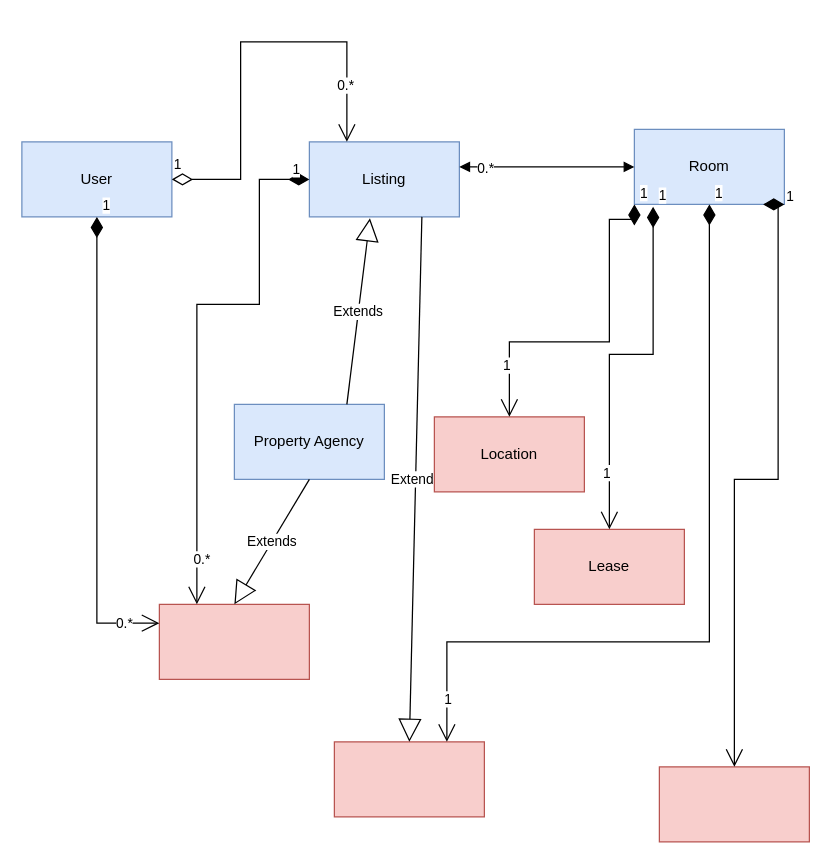
This 831x864 diagram has some shape labels left out. The shapes that lost their labels are listed below. From the top down, each one's centre as x and y in pixels, then its label:
At point (233, 641): "Preferences".
At point (408, 779): "Pet Policy".
At point (733, 804): "Tenancy Term".
